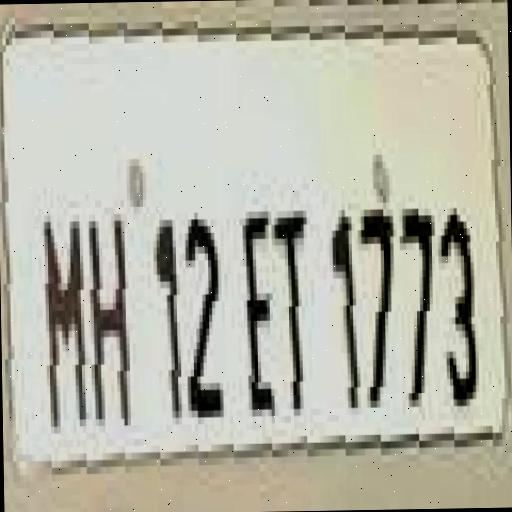number plate: (12, 23, 512, 462)
